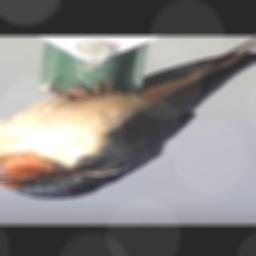Swallow: (0, 36, 256, 200)
